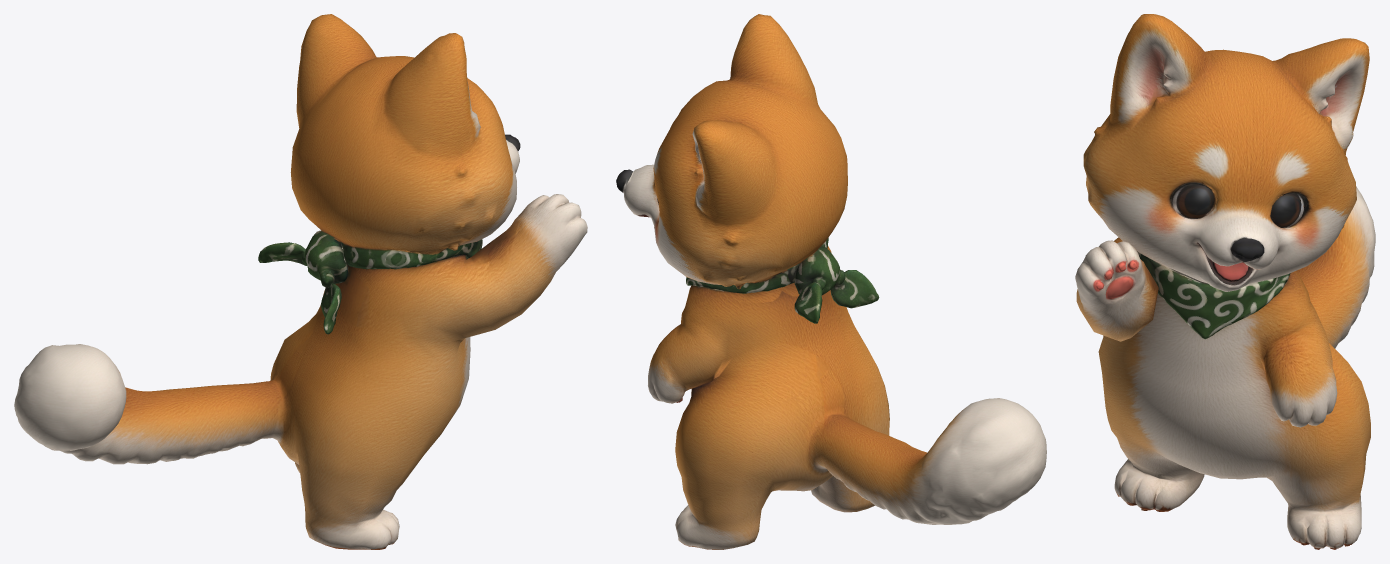
The model's file is ayumi.glb.
The picture shows the model from 3 angles, left to right: view 1: azimuth 30°, elevation 25°; view 2: azimuth 150°, elevation 25°; view 3: azimuth 270°, elevation 25°; orthographic projection. The views are drawn at different scales.
Visible parts, largest first — view 1: tripo_node_729224c9-6f2d-4939-af65-d5d460139d6f; view 2: tripo_node_729224c9-6f2d-4939-af65-d5d460139d6f; view 3: tripo_node_729224c9-6f2d-4939-af65-d5d460139d6f.
Part boxes in pixels (box(x1,y1,x2,y2)): tripo_node_729224c9-6f2d-4939-af65-d5d460139d6f: box(14, 14, 587, 549); tripo_node_729224c9-6f2d-4939-af65-d5d460139d6f: box(616, 14, 1046, 549); tripo_node_729224c9-6f2d-4939-af65-d5d460139d6f: box(1075, 14, 1375, 549).
Bounding box in the file's own units: 0.998 × 0.9941 × 0.5059.
Materials: 1 (1 with a texture image).
